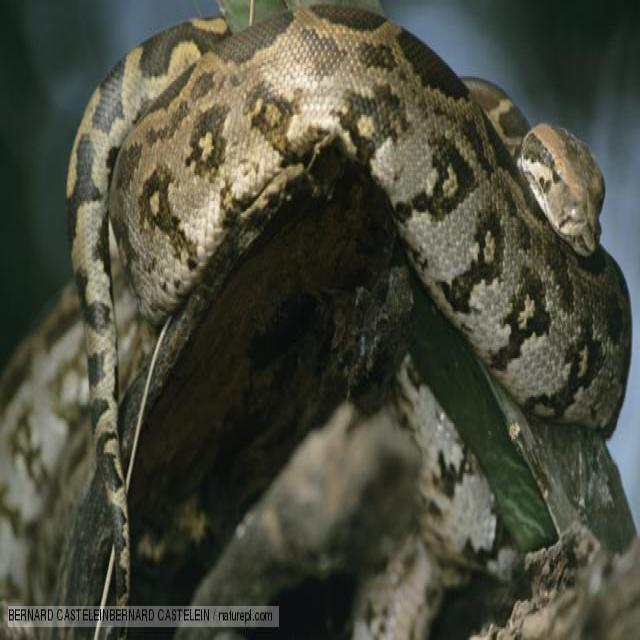Snake: (42, 1, 632, 636)
